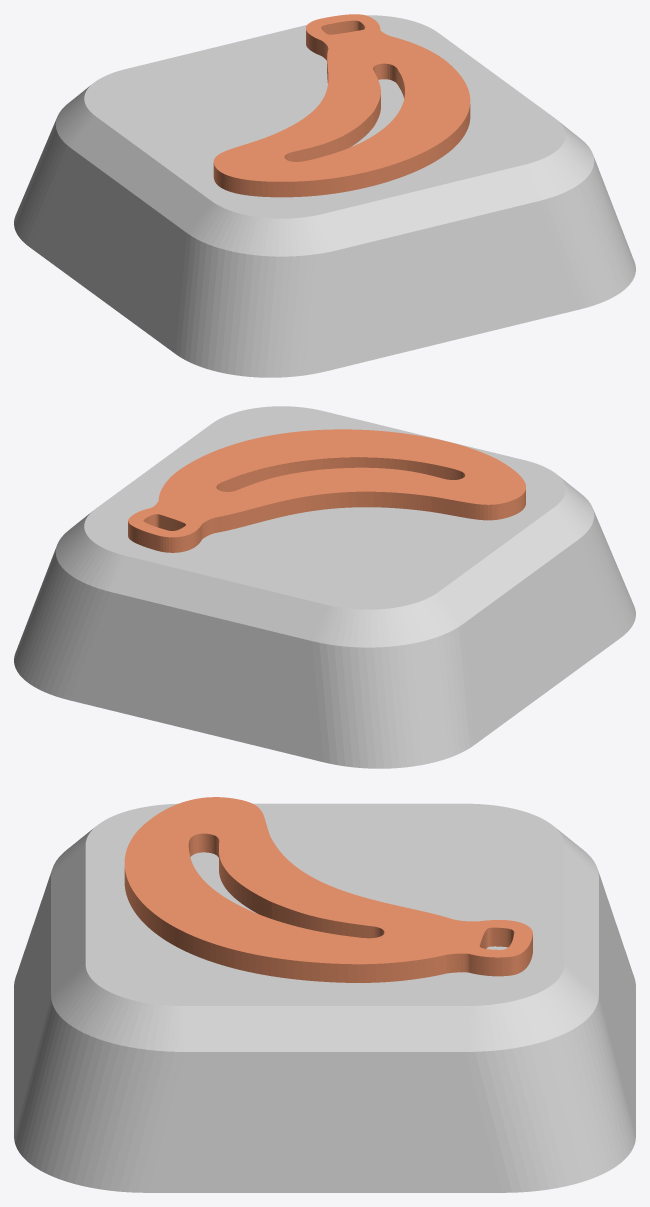
Rendered from cap-banana.glb.
The picture shows the model from 3 angles, top to bottom: view 1: azimuth 30°, elevation 25°; view 2: azimuth 150°, elevation 25°; view 3: azimuth 270°, elevation 25°; orthographic projection. The views are drawn at different scales.
Visible parts, largest first — view 1: cap_1, glyph_0; view 2: cap_1, glyph_0; view 3: cap_1, glyph_0.
Boxes of the visible parts, bbox=[...] form: cap_1: bbox=[14, 15, 635, 377]; glyph_0: bbox=[213, 14, 470, 197]; cap_1: bbox=[14, 406, 635, 768]; glyph_0: bbox=[128, 429, 525, 552]; cap_1: bbox=[14, 803, 635, 1192]; glyph_0: bbox=[124, 797, 532, 982].
Size of the model in its own units: 18 by 5.6 by 18.
